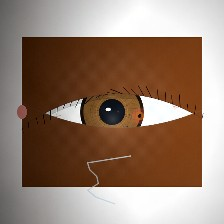foreign_body_visible: (130, 108, 150, 124)
